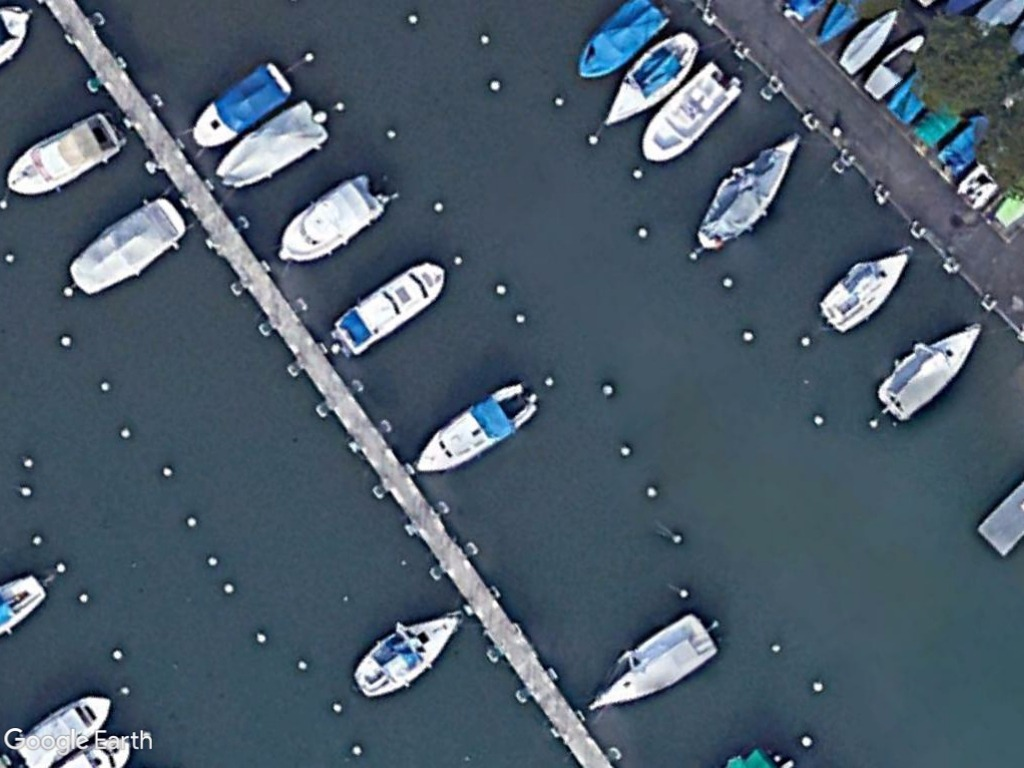boat: (590, 615, 719, 717), (695, 131, 802, 250), (414, 381, 542, 474), (68, 194, 183, 295), (331, 258, 447, 358), (875, 320, 985, 423), (211, 99, 334, 190), (638, 59, 741, 164), (190, 55, 299, 151), (3, 109, 119, 199), (276, 175, 389, 266), (600, 29, 700, 131), (353, 610, 464, 699), (814, 243, 913, 335), (577, 0, 672, 79), (15, 694, 111, 768), (861, 31, 929, 101), (839, 5, 903, 78)
